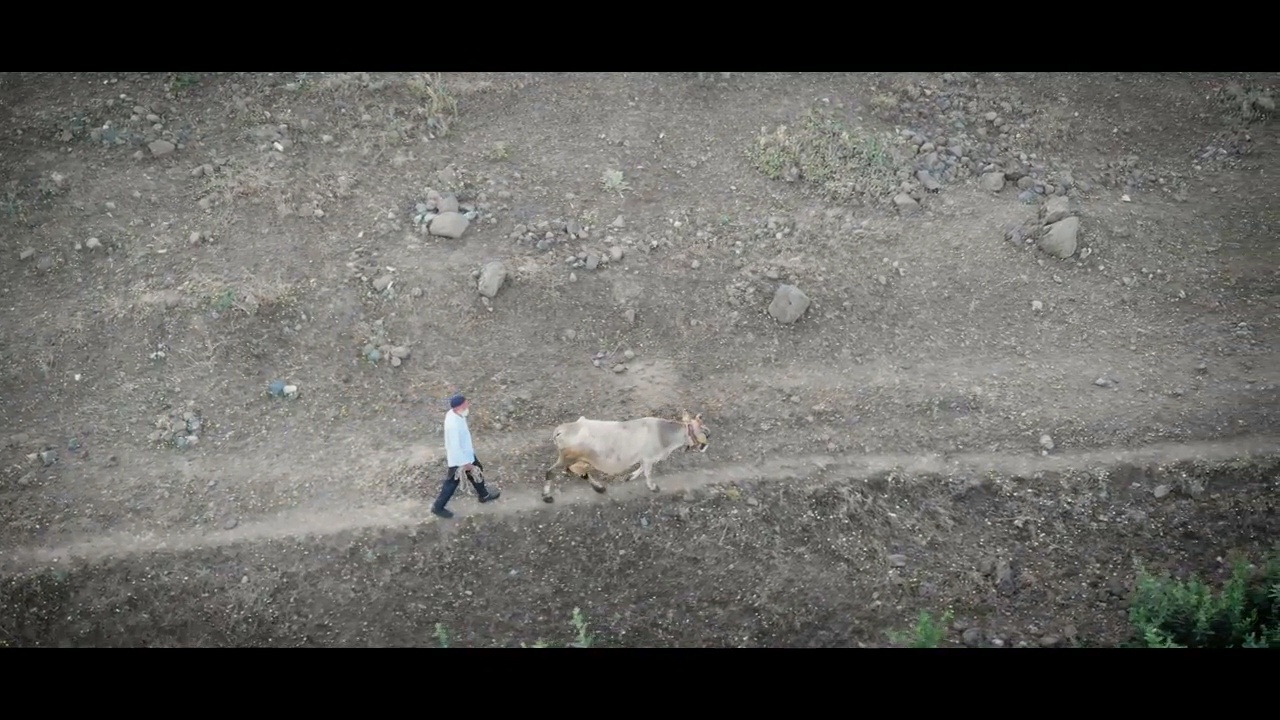insan: (430, 395, 505, 521)
